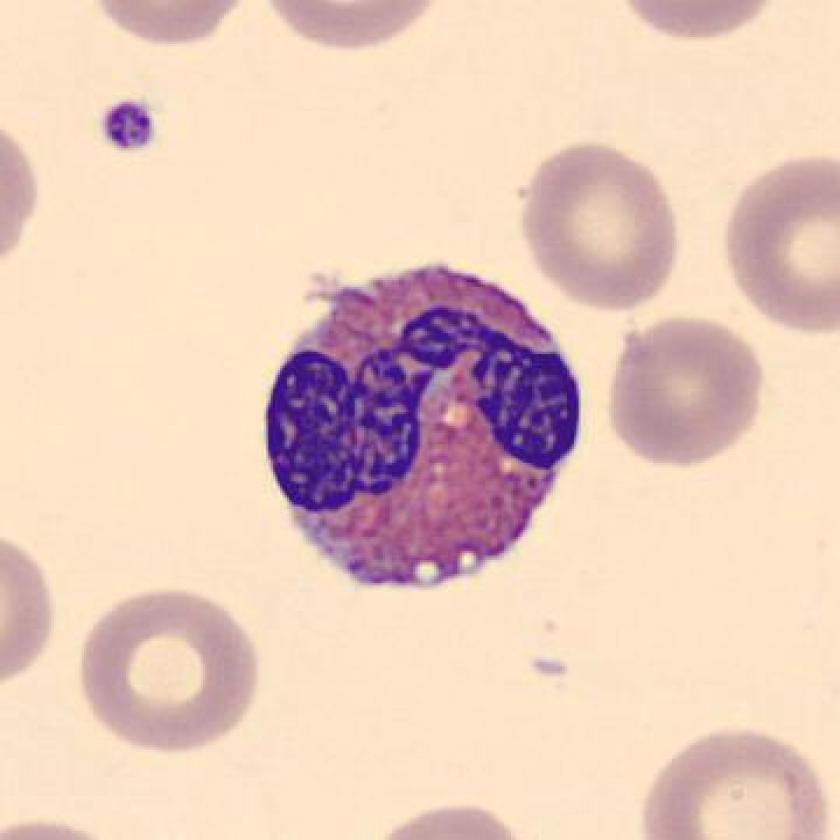eosinophil: (251, 253, 589, 605)
